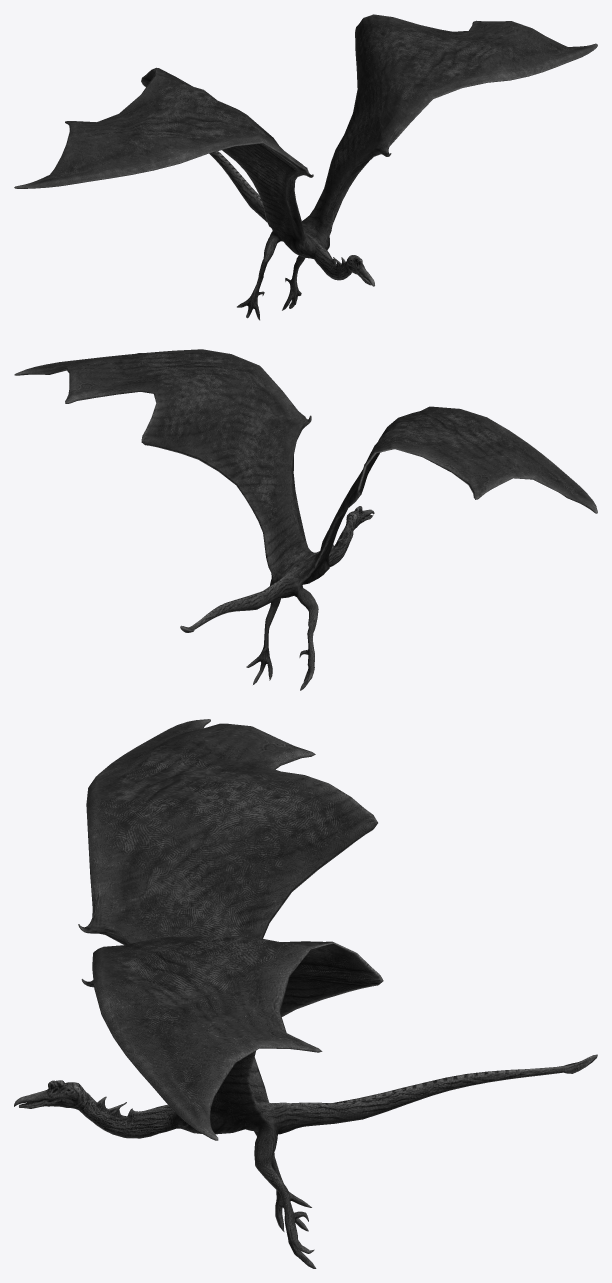
File: Fellbeast_Animate_Grab_Glide_11.obj
The picture shows the model from 3 angles, top to bottom: view 1: azimuth 30°, elevation 25°; view 2: azimuth 150°, elevation 25°; view 3: azimuth 270°, elevation 25°; orthographic projection. The views are drawn at different scales.
Parts seen in each view (by area): view 1: Fellbeast; view 2: Fellbeast; view 3: Fellbeast.
Boxes of the visible parts, x1,y1,x2,y2 form: Fellbeast: (14,14,597,320); Fellbeast: (14,349,597,690); Fellbeast: (14,719,597,1268).
Bounding box in the file's own units: 7.35 × 3.23 × 4.33.
